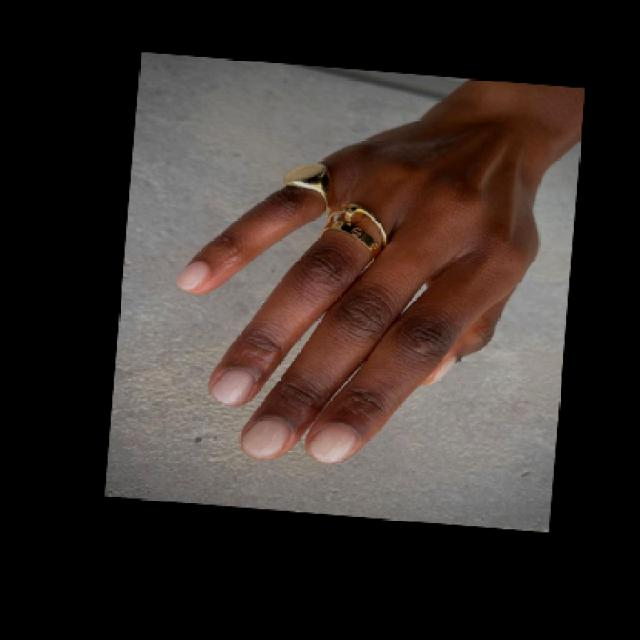Nail: (309, 425, 358, 464), (241, 418, 288, 457), (211, 369, 252, 404), (176, 261, 210, 291)
